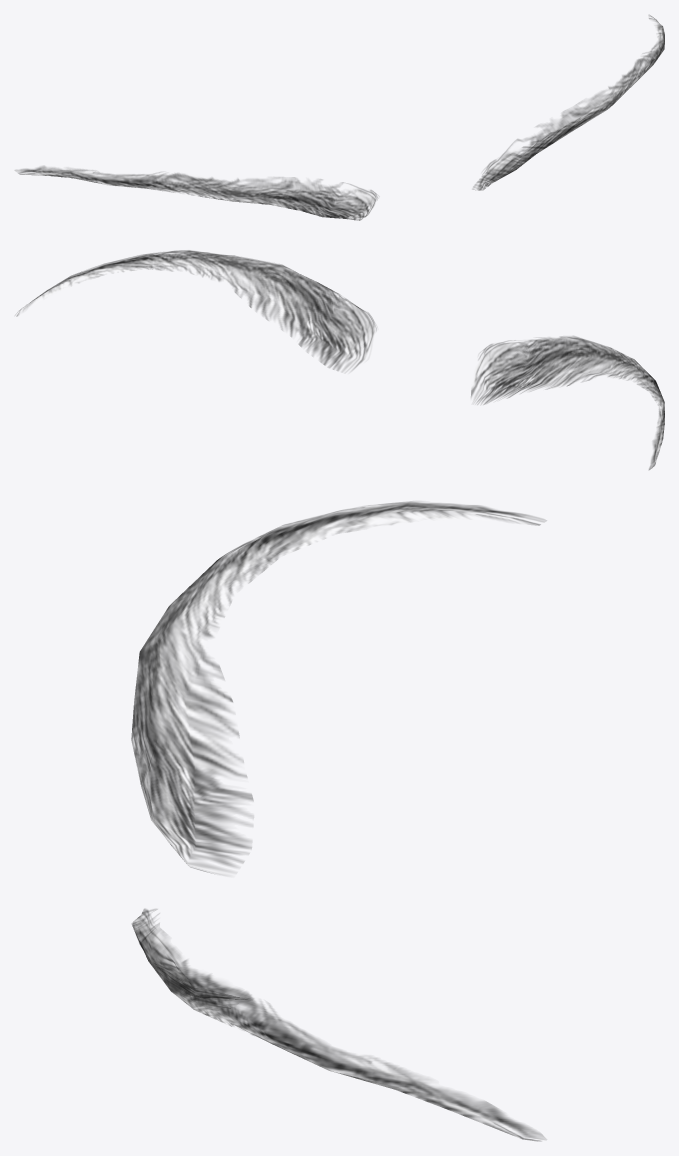
File: brows_eyebrow004.gltf
3 renders of one model, top to bottom at view 1: azimuth 30°, elevation 25°; view 2: azimuth 150°, elevation 25°; view 3: azimuth 270°, elevation 25°, orthographic. The views are drawn at different scales.
Parts seen in each view (by area): view 1: brows_eyebrow004; view 2: brows_eyebrow004; view 3: brows_eyebrow004.
Boxes of the visible parts, x1,y1,x2,y2 form: brows_eyebrow004: (15, 15, 664, 220); brows_eyebrow004: (16, 250, 664, 469); brows_eyebrow004: (131, 501, 546, 1141).
Bounding box in the file's own units: 0.1079 × 0.0142 × 0.0306.
Materials: 1 (1 with a texture image).
